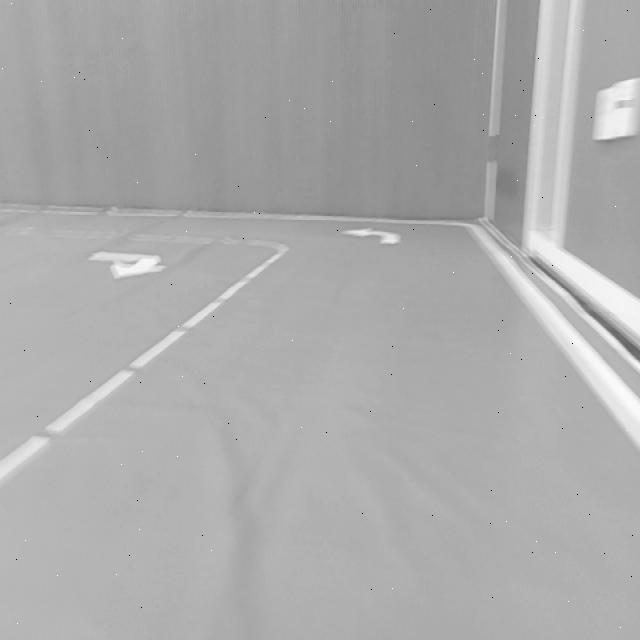left_lane: (0, 252, 286, 481)
right_lane: (471, 231, 640, 446)
